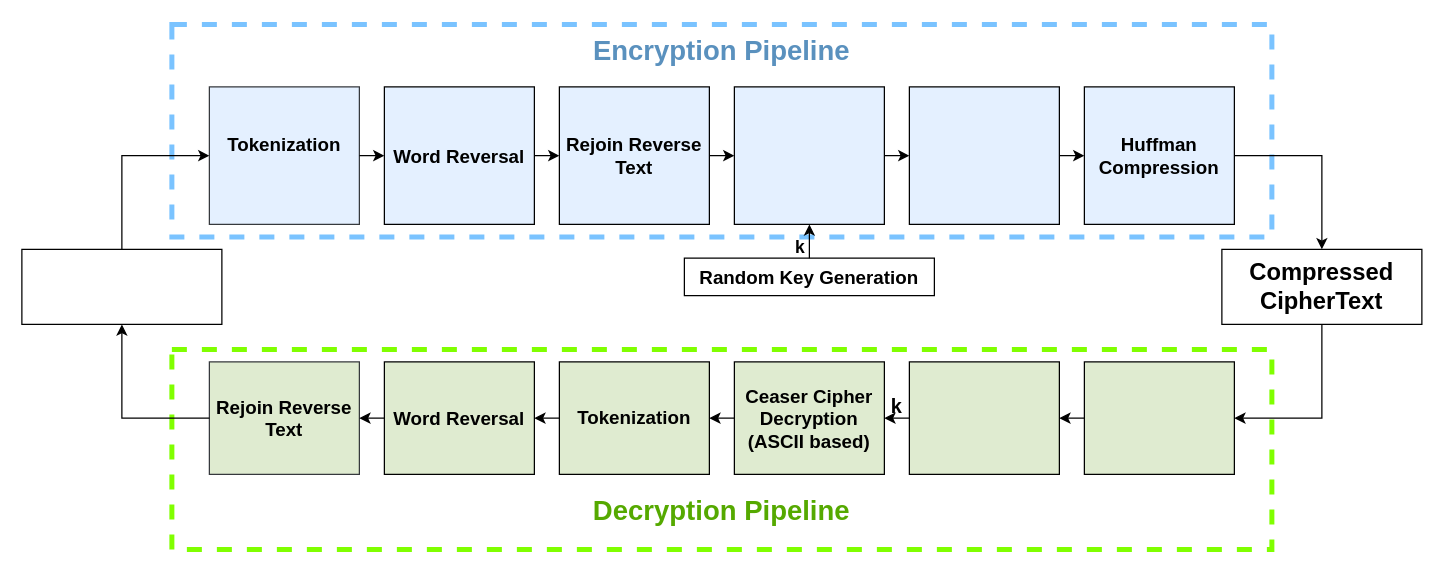
The diagram is 1444 pixels wide and 573 high, and some of its shapes have lost their labels. The shapes that lost their labels are listed below. From the top down, each one's centre as x and y in pixels, then its label:
At (808,155): "Ceaser Cipher Encryption (ASCII based)".
At (983,155): "Append Key to Ciphertext".
At (121,286): "Plain text".
At (983,417): "Extract Key".
At (1158,417): "Huffman Decompression".
